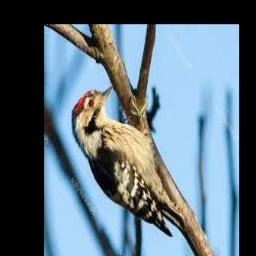Woodpecker: (72, 86, 186, 237)
